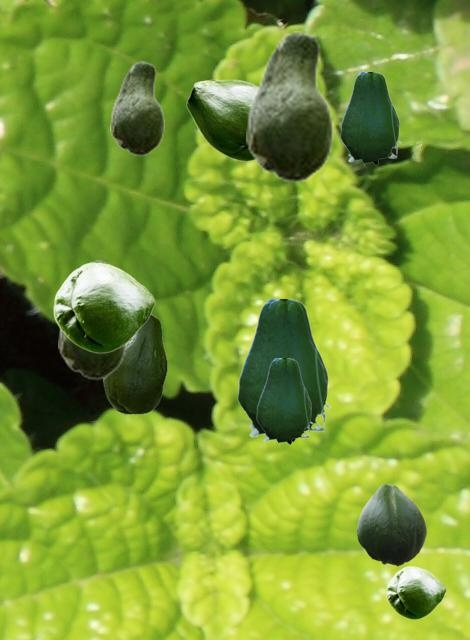sayote: (237, 299, 330, 444), (246, 31, 332, 182), (53, 262, 154, 352), (58, 260, 125, 379), (103, 313, 166, 413), (340, 72, 400, 166), (186, 79, 255, 160), (357, 484, 425, 565), (110, 61, 163, 155), (256, 358, 312, 445), (386, 566, 445, 618)
